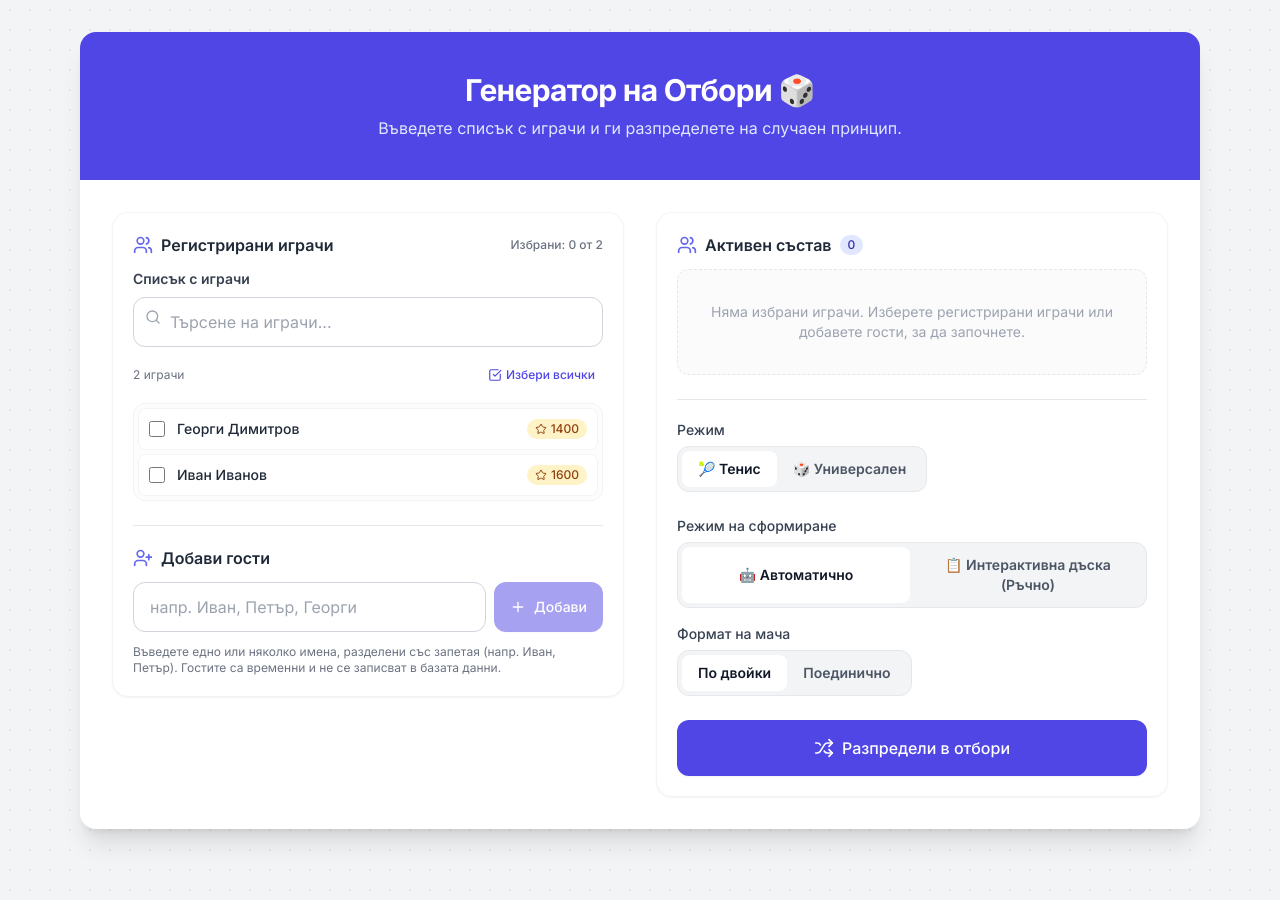
Test case: GeneratorPage Integration Tests › shows error notification when attempting to generate with insufficient players
What coordinates should you click on to do the following:
click the button "Разпредели в отбори"
I would click on:
 (912, 748)
Its box is x1=677 y1=720 x2=1147 y2=776.
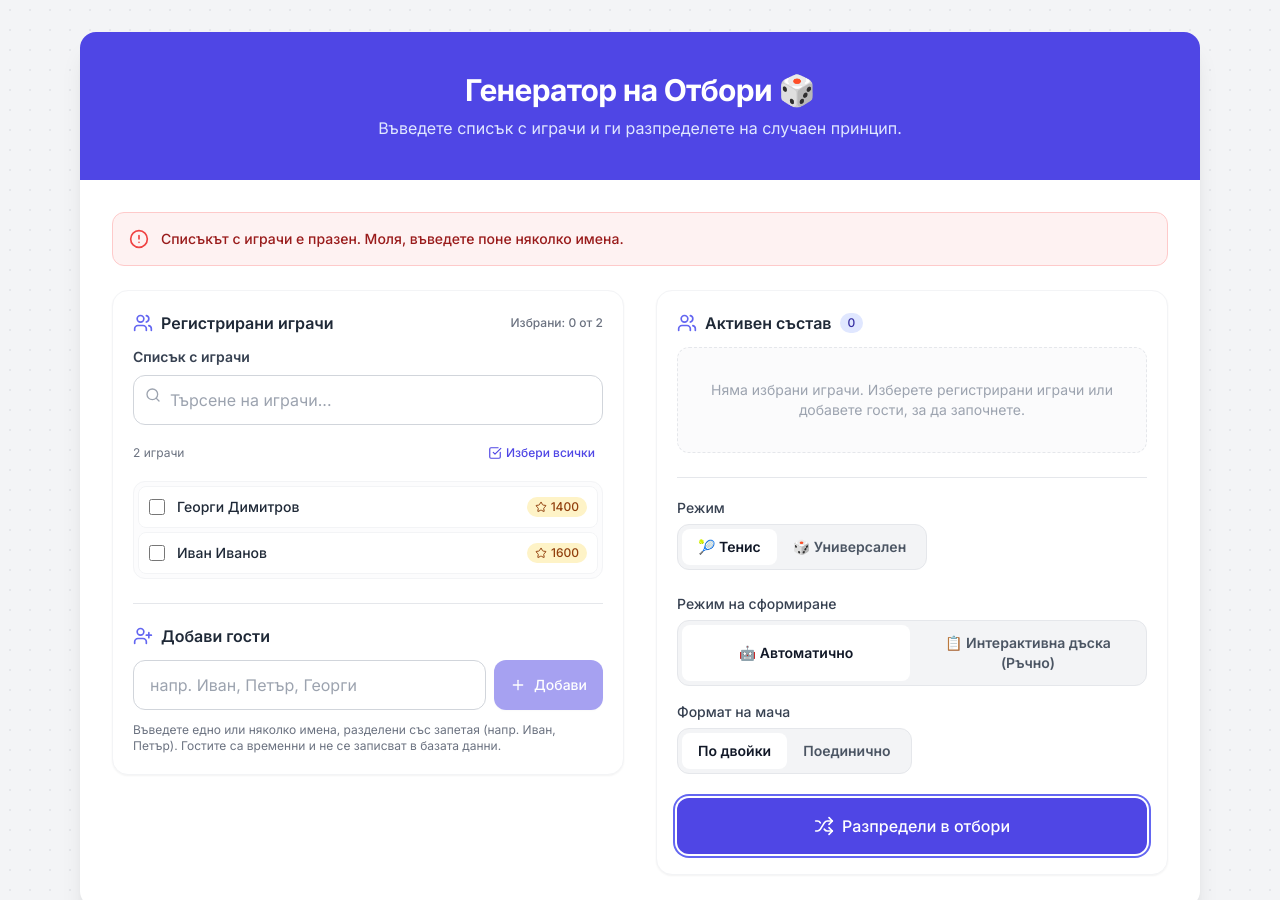
Expected: the text "Списъкът с играчи е празен. Моля, въведете поне няколко имена." is shown, x1=161 y1=230 x2=624 y2=247
